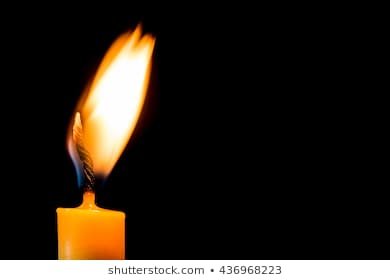Fire: (59, 25, 158, 177)
